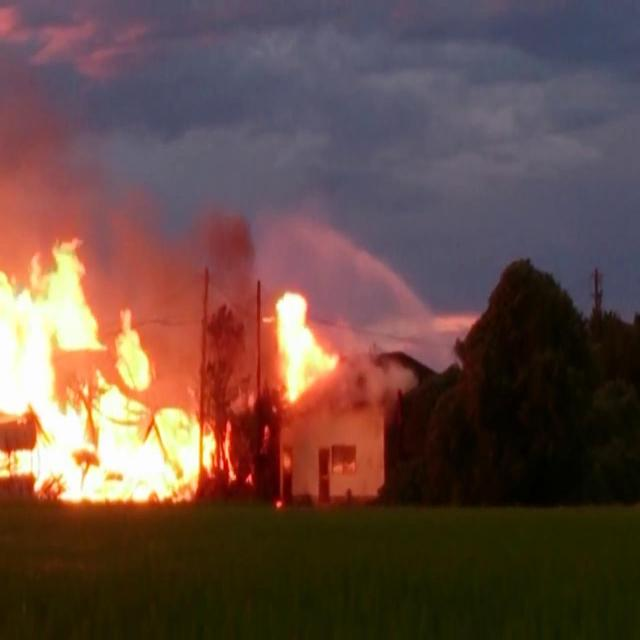Fire: (2, 236, 238, 505), (276, 290, 338, 397)
